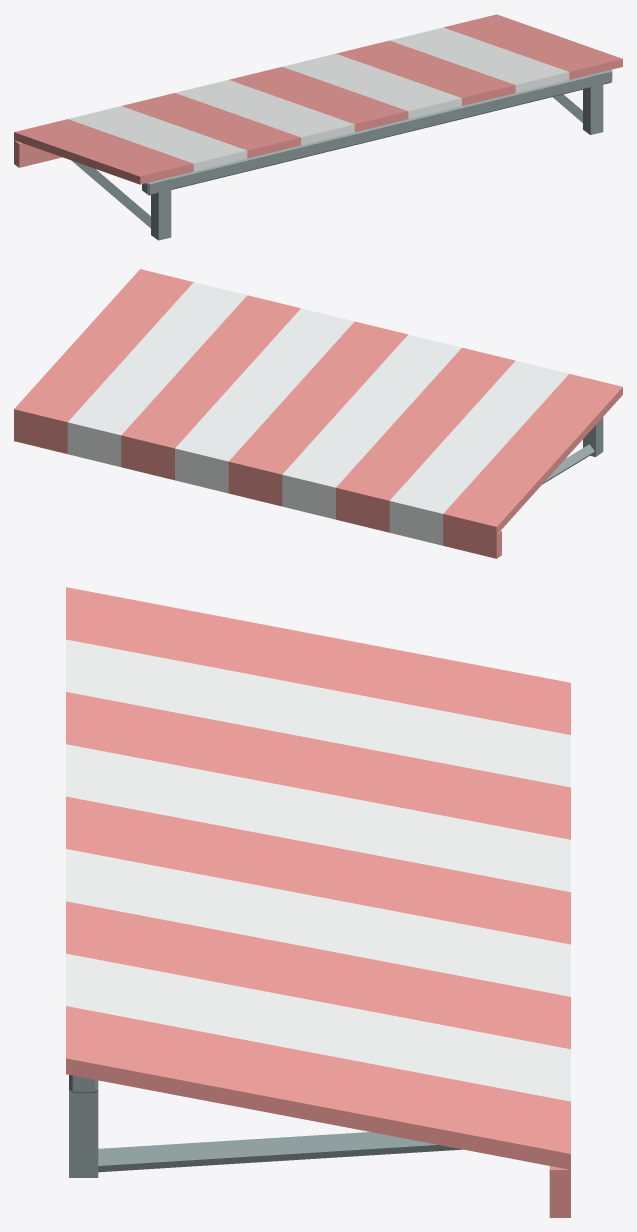
File: street_awning_2.glb
3 renders of one model, top to bottom at view 1: azimuth 30°, elevation 25°; view 2: azimuth 150°, elevation 25°; view 3: azimuth 270°, elevation 25°, orthographic. The views are drawn at different scales.
Visible parts, largest first — view 1: RearRail, CanopyStripe0, CanopyStripe7, CanopyStripe4, CanopyStripe1, CanopyStripe2, CanopyStripe3, CanopyStripe5, CanopyStripe8, CanopyStripe6, WallBracket.001, WallBracket (+2 smaller); view 2: CanopyStripe0, CanopyStripe4, CanopyStripe7, CanopyStripe1, CanopyStripe3, CanopyStripe6, CanopyStripe5, CanopyStripe8, CanopyStripe2, Valance0, Valance1, Valance4 (+8 smaller); view 3: CanopyStripe8, CanopyStripe5, CanopyStripe0, CanopyStripe4, CanopyStripe6, CanopyStripe7, CanopyStripe3, CanopyStripe1, CanopyStripe2, SupportBracket.001, WallBracket.001, Valance8.
Part boxes in pixels (x1,y1,x2,y2): RearRail: (142,70,612,195); CanopyStripe0: (14,119,193,184); CanopyStripe7: (390,27,569,92); CanopyStripe4: (229,66,408,131); CanopyStripe1: (68,106,247,171); CanopyStripe2: (122,93,300,158); CanopyStripe3: (175,80,354,145); CanopyStripe5: (283,53,461,118); CanopyStripe8: (443,14,622,79); CanopyStripe6: (336,40,515,105); WallBracket.001: (583,73,603,134); WallBracket: (151,179,171,240); CanopyStripe0: (443,374,622,534); CanopyStripe4: (228,321,407,482); CanopyStripe7: (67,282,247,443); CanopyStripe1: (389,361,568,521); CanopyStripe3: (282,334,461,495); CanopyStripe6: (121,295,300,456); CanopyStripe5: (175,308,354,469); CanopyStripe8: (14,269,193,430); CanopyStripe2: (336,347,515,508); Valance0: (443,522,501,558); Valance1: (389,509,443,545); Valance4: (228,469,282,506); CanopyStripe8: (66,1006,570,1169); CanopyStripe5: (66,849,570,996); CanopyStripe0: (66,587,570,734); CanopyStripe4: (66,796,570,944); CanopyStripe6: (66,901,570,1049); CanopyStripe7: (66,953,570,1101); CanopyStripe3: (66,744,570,891); CanopyStripe1: (66,639,570,787); CanopyStripe2: (66,692,570,839); SupportBracket.001: (98,1132,462,1172); WallBracket.001: (69,1090,98,1177); Valance8: (549,1166,570,1217).
Bounding box in the file's own units: 0.8636 × 0.1363 × 0.3909.
